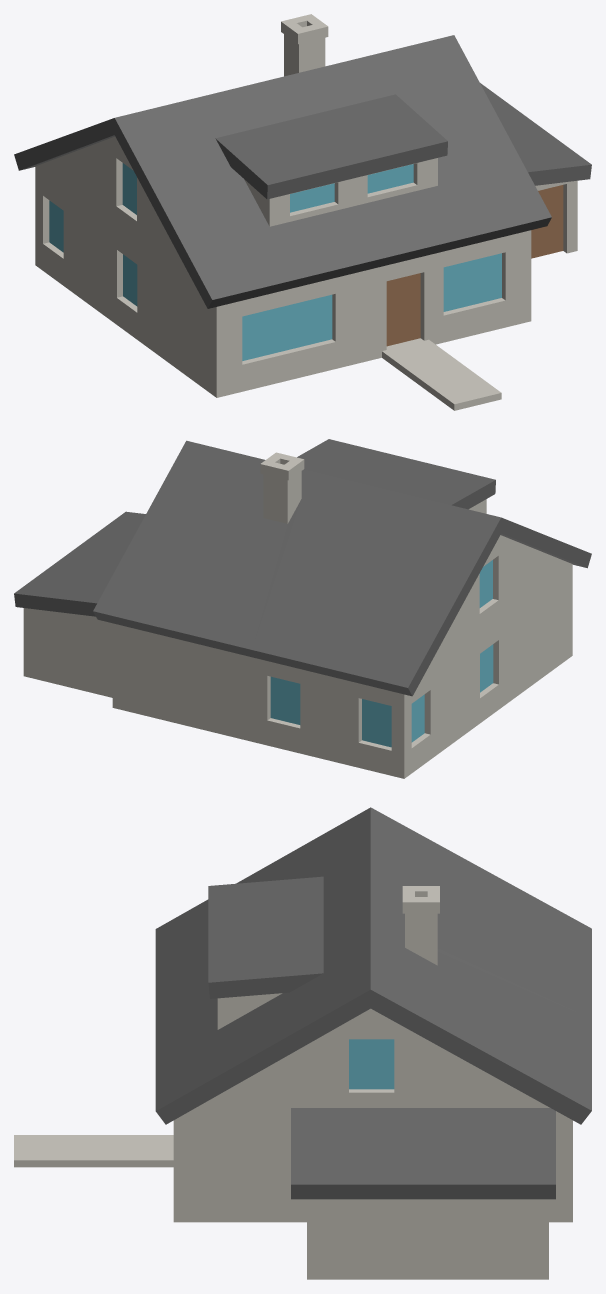
The model's file is house-small-garage.glb.
3 views of the same model, one above another, from view 1: azimuth 30°, elevation 25°; view 2: azimuth 150°, elevation 25°; view 3: azimuth 270°, elevation 25° (orthographic). The views are drawn at different scales.
Parts seen in each view (by area): view 1: house-small-garage_Cube.000; view 2: house-small-garage_Cube.000; view 3: house-small-garage_Cube.000.
Part boxes in pixels (box(x1,y1,x2,y2)): house-small-garage_Cube.000: box(14, 14, 591, 410); house-small-garage_Cube.000: box(14, 439, 591, 778); house-small-garage_Cube.000: box(14, 807, 591, 1279).
Bounding box in the file's own units: 14.03 × 7.38 × 14.47.
Materials: 1 (1 with a texture image).
